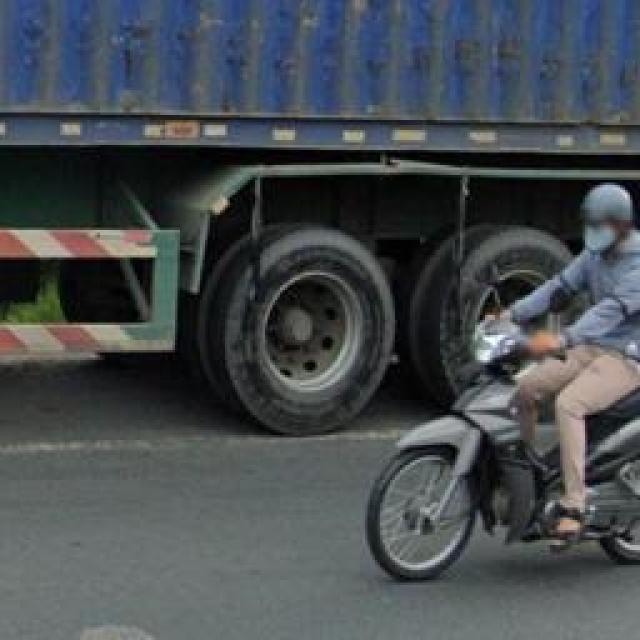motorbike: (365, 165, 640, 588)
truck: (0, 0, 640, 441)
